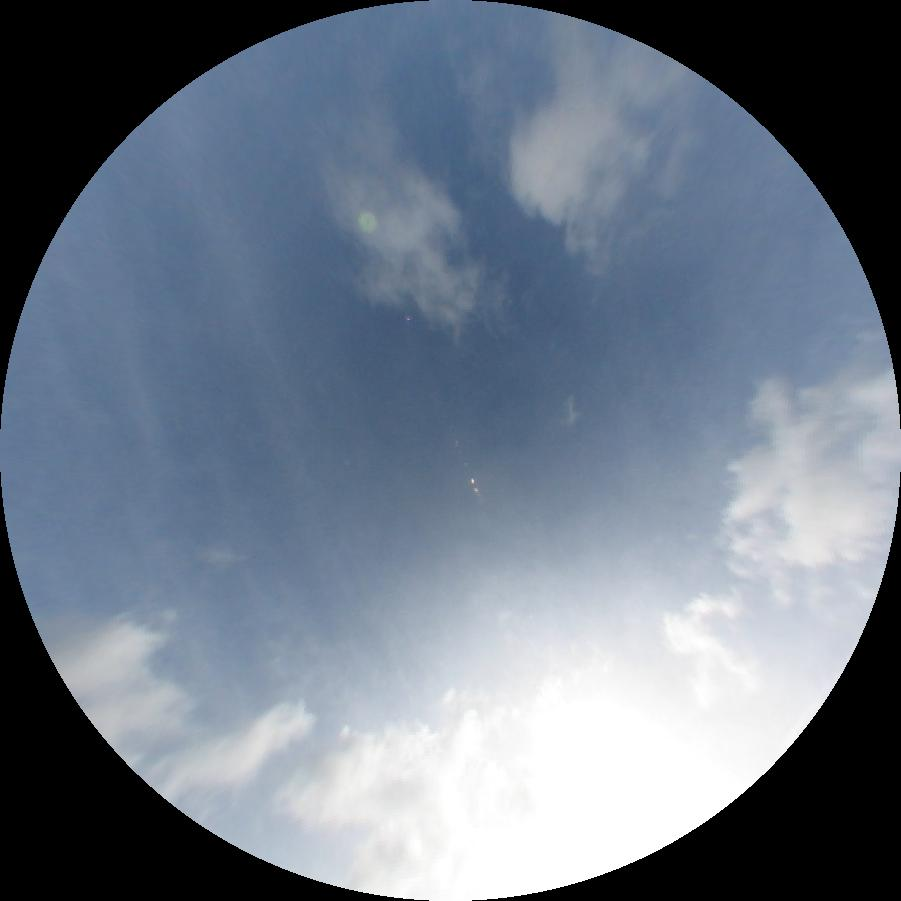sun: (519, 705, 713, 878)
